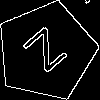Z: (21, 26, 76, 81)
